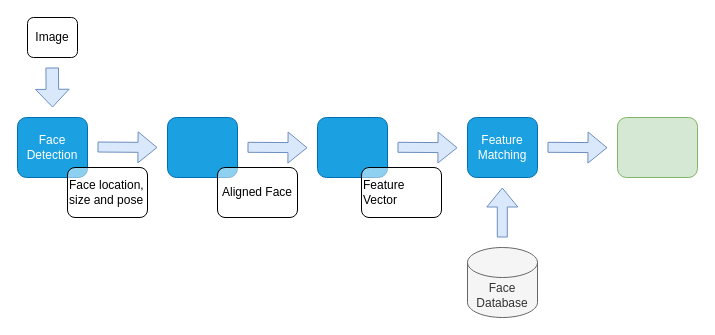
Some shapes in this 715 by 335 pixel diagram are drawn without their labels. The shapes that lost their labels are listed below. From the top down, each one's centre as x and y in pixels, then its label:
the point at 202,147: Face Alignment
the point at 352,147: Feature Extraction
the point at 657,147: Face ID
